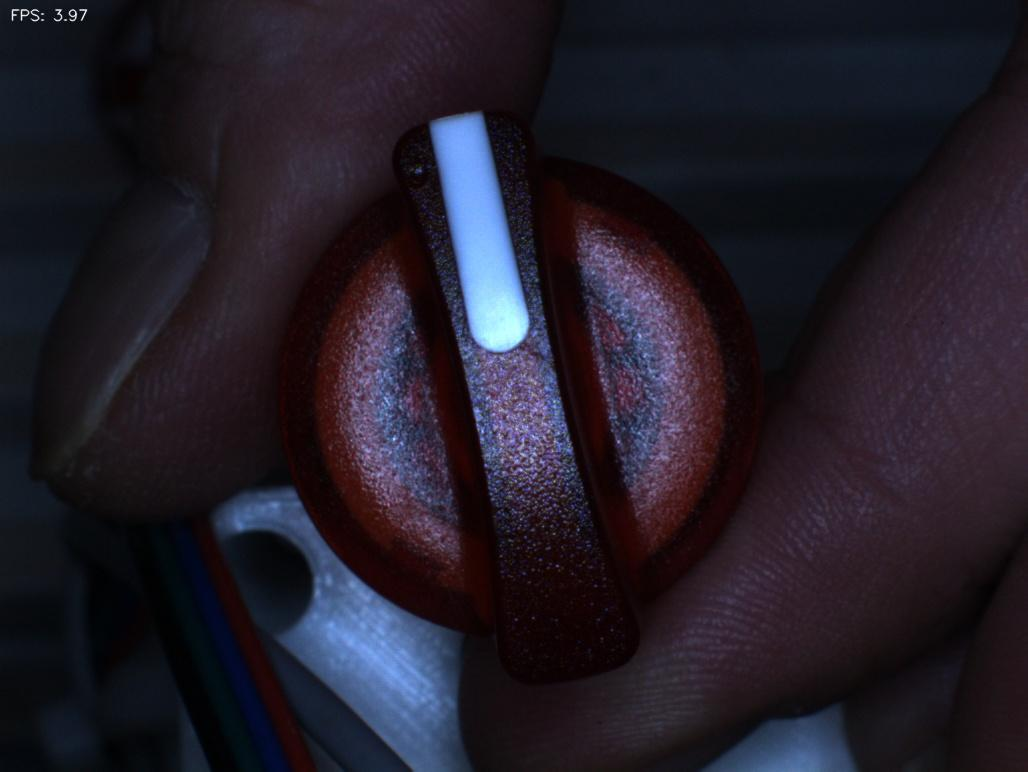Choc: (369, 115, 463, 219)
